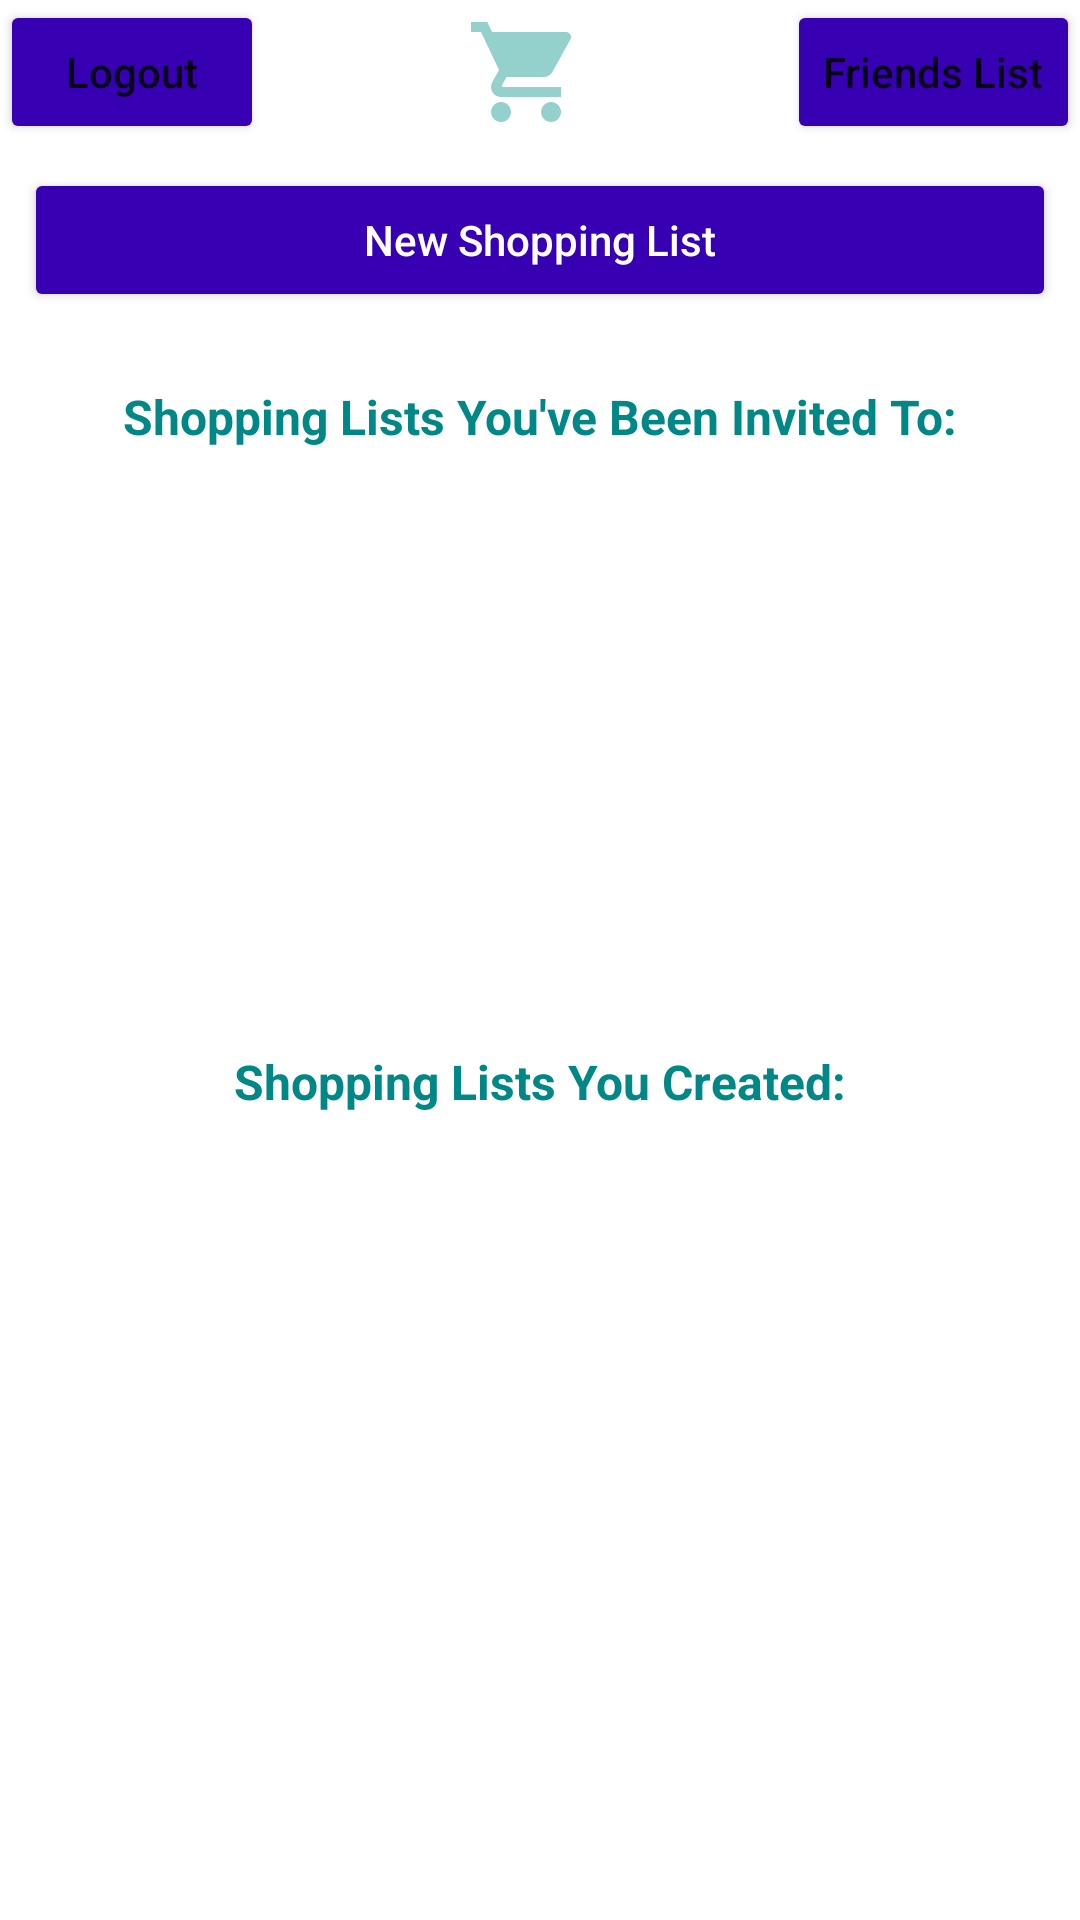

Where to tap for icons on this 1080px×1920px app screen, as (x,y):
shopping cart: (521,72)
